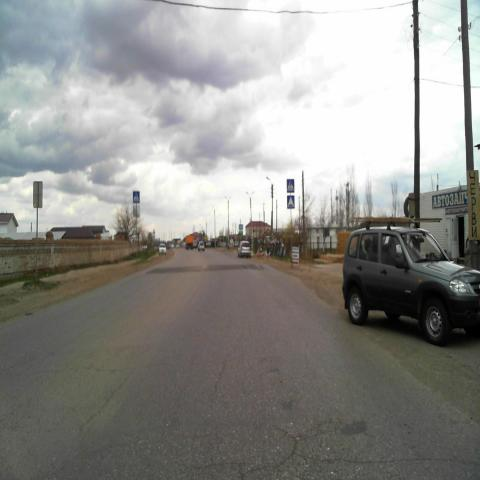5_19_1: (287, 179, 294, 193), (133, 192, 140, 203)
5_20: (287, 195, 295, 209)
